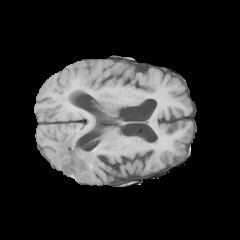glioma: (46, 96, 97, 182)
